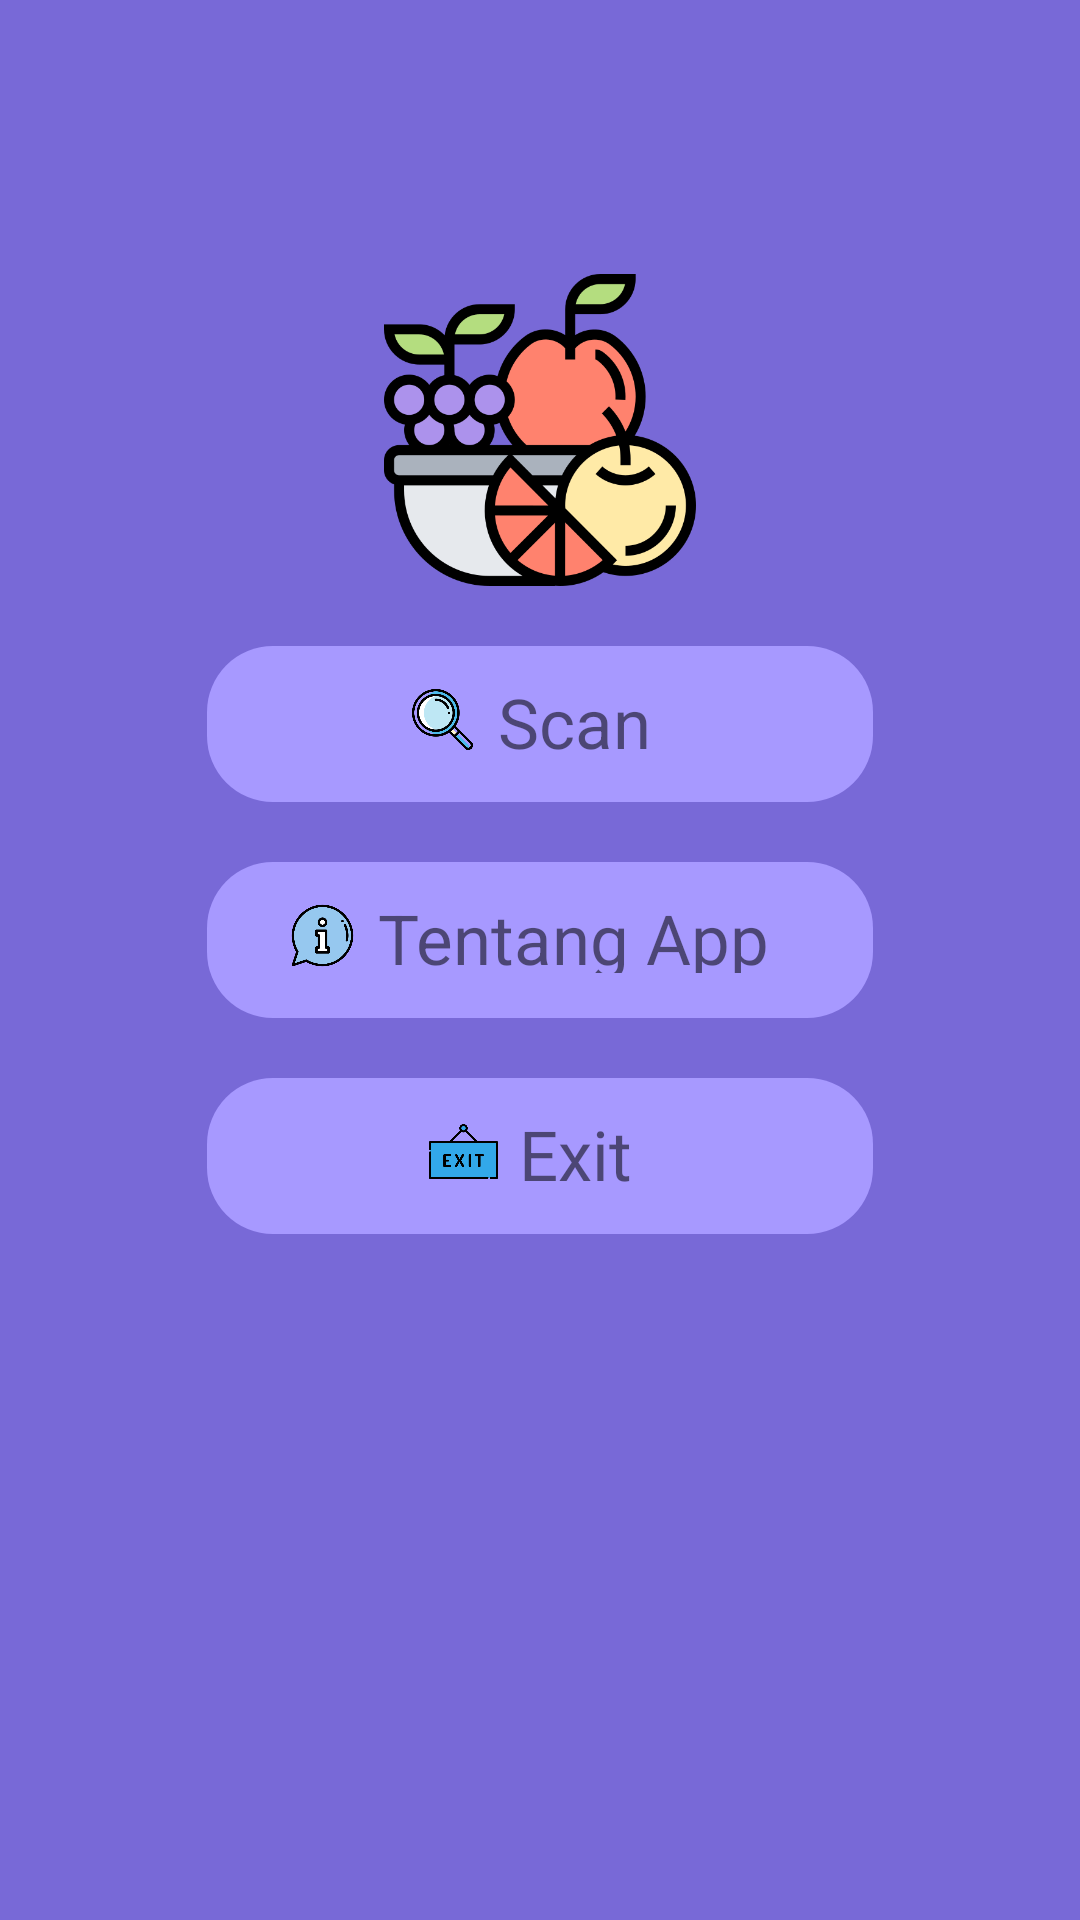

Where to tap for icons on this 1080×1920 app screen, as point (x, y):
about: point (322, 935)
